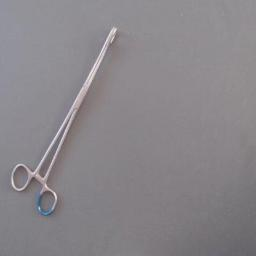Sponge Forceps: (8, 20, 124, 220)
